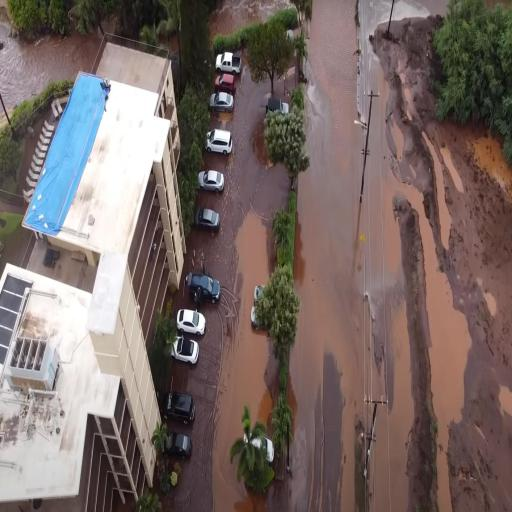flood: (212, 0, 368, 511), (419, 201, 512, 510), (359, 0, 399, 510), (381, 107, 413, 510), (0, 17, 102, 111), (423, 131, 453, 249), (209, 0, 290, 38), (469, 135, 512, 201), (441, 145, 465, 192), (392, 0, 431, 20), (376, 0, 392, 25)
house: (0, 43, 187, 510), (218, 48, 240, 92), (269, 92, 291, 116)
